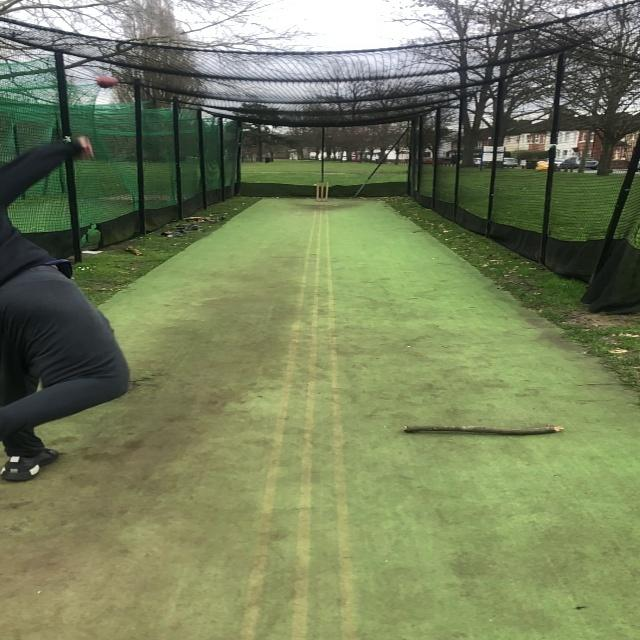ball: (96, 75, 118, 89)
